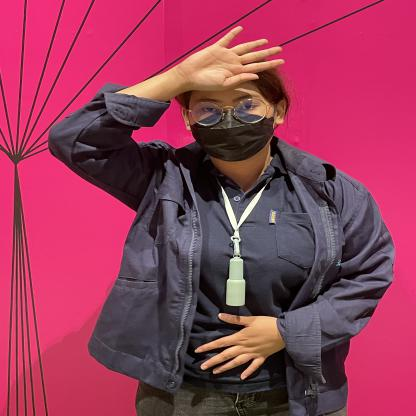Sick: (118, 20, 308, 95)
